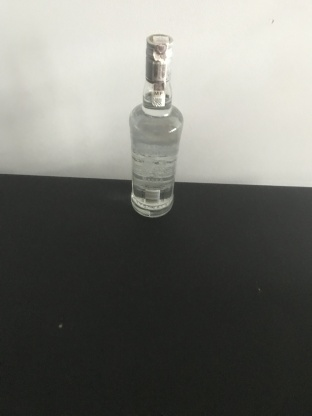nakretka: (144, 32, 174, 83)
